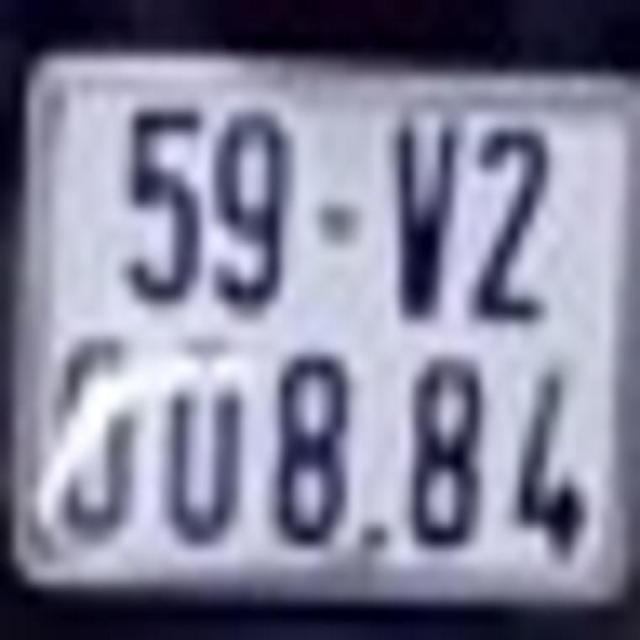0: (162, 339, 241, 543), (56, 332, 132, 532)
2: (470, 121, 552, 322)
4: (520, 363, 587, 567)
5: (126, 108, 206, 302)
8: (401, 354, 487, 551), (272, 346, 344, 544)
9: (208, 106, 291, 319)
V: (386, 106, 456, 321)
